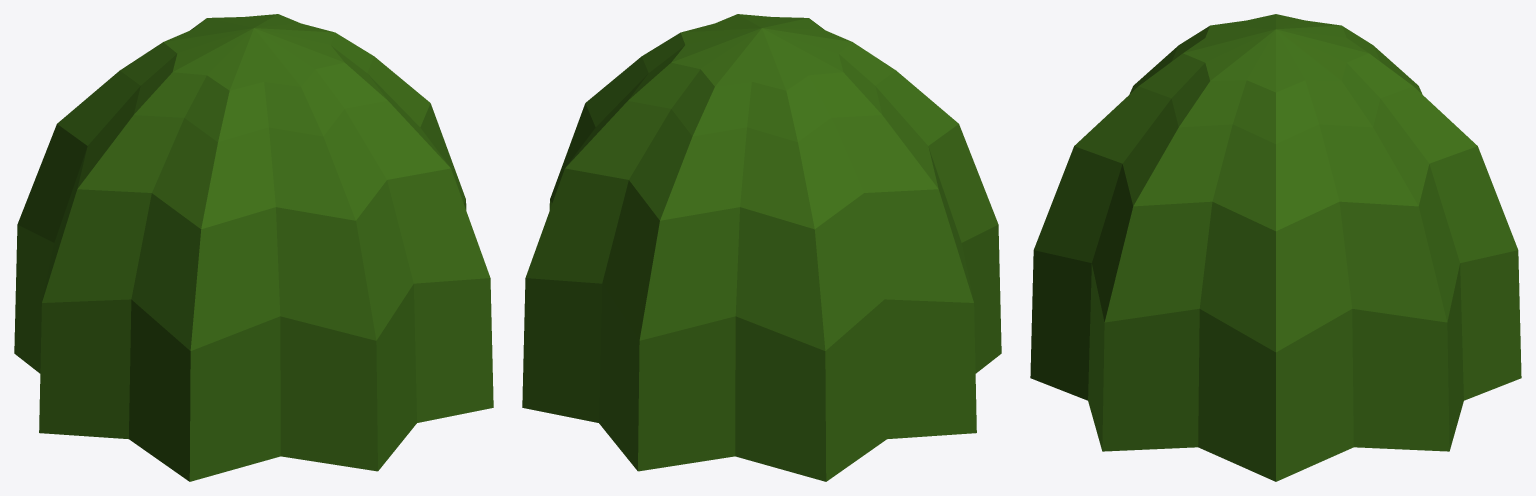
Rendered from Cactus_26_A.fbx.
The picture shows the model from 3 angles, left to right: view 1: azimuth 30°, elevation 25°; view 2: azimuth 150°, elevation 25°; view 3: azimuth 270°, elevation 25°; orthographic projection.
Parts seen in each view (by area): view 1: Cactus_26_A; view 2: Cactus_26_A; view 3: Cactus_26_A.
Boxes of the visible parts, x1,y1,x2,y2 form: Cactus_26_A: (14,14,493,481); Cactus_26_A: (522,14,1001,481); Cactus_26_A: (1030,14,1521,481).
Bounding box in the file's own units: 112 × 88.02 × 112.
